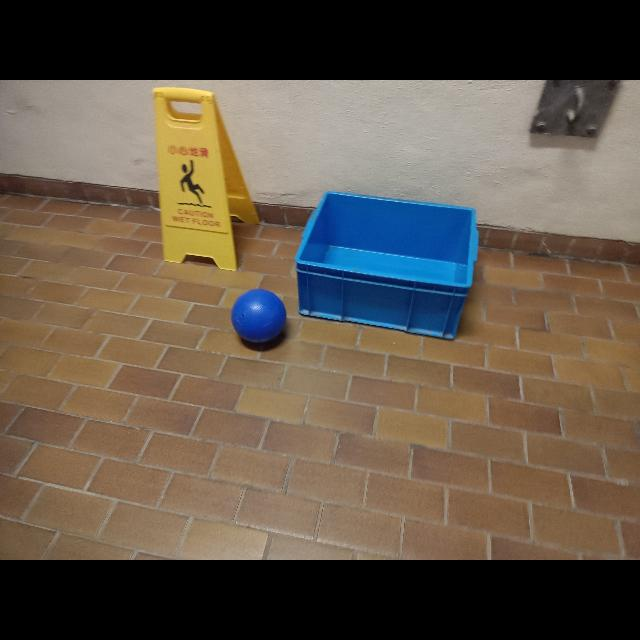B: (231, 287, 291, 347)
